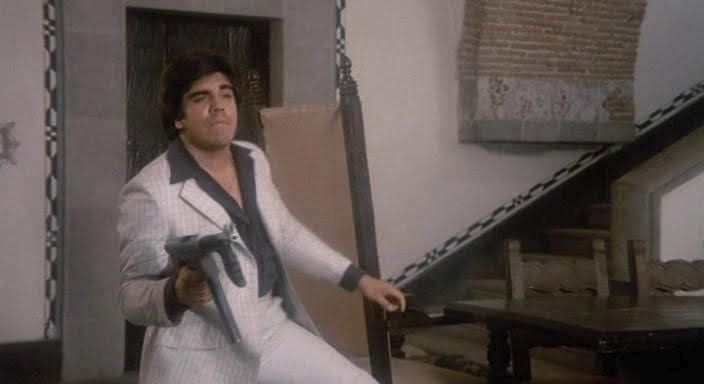gun: (158, 220, 263, 337)
